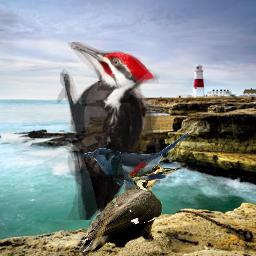Cuckoo: (83, 131, 193, 186)
Woodpecker: (53, 42, 160, 220), (79, 162, 184, 254)
